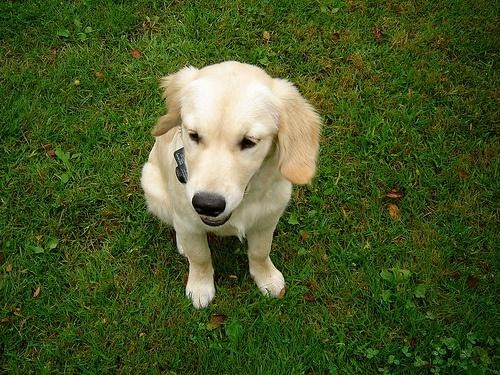dog: (143, 61, 325, 308)
